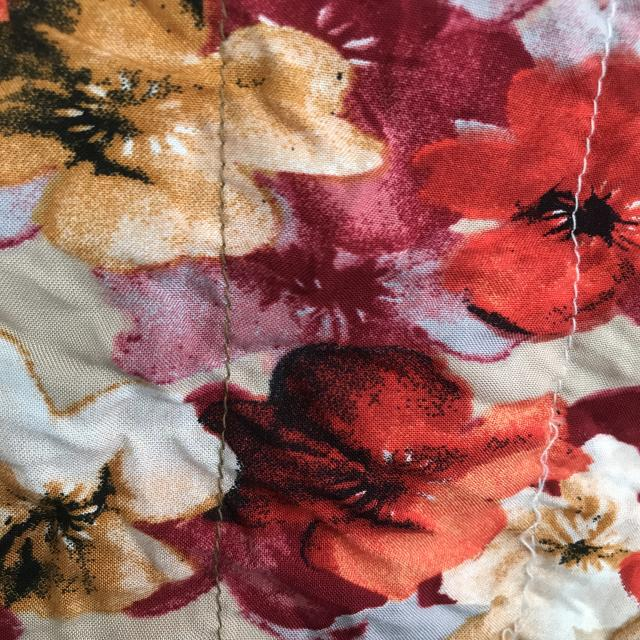good: (205, 427, 247, 617), (204, 268, 256, 393), (564, 228, 592, 346), (581, 69, 606, 147)
